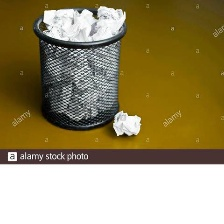book: (33, 5, 128, 124), (108, 107, 145, 140)
